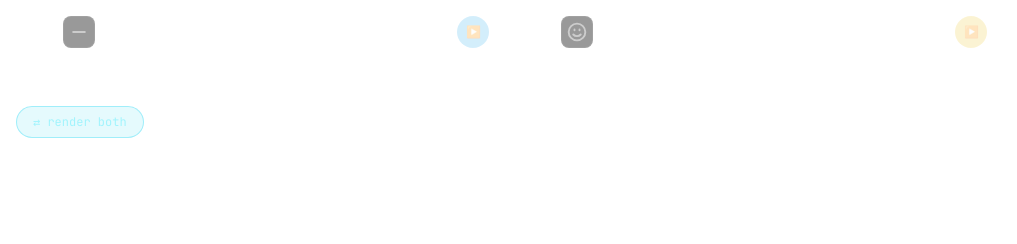
Test: EmotionAB › warns when both sides turned out to be the same recording
Click the button "⇄ render both" at (80, 122), box [16,106,144,138]
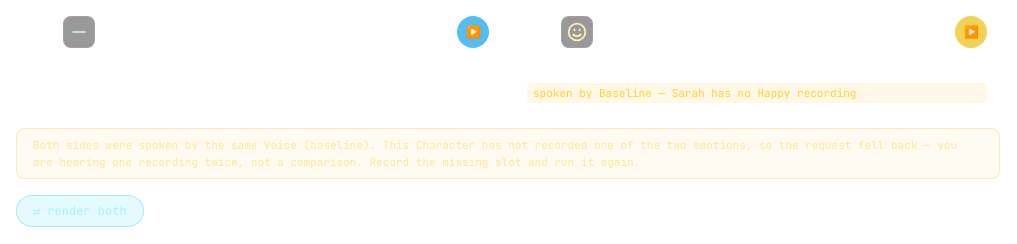
Now the text "one recording twice, not a comparison" is shown, box [33,138,957,169]
